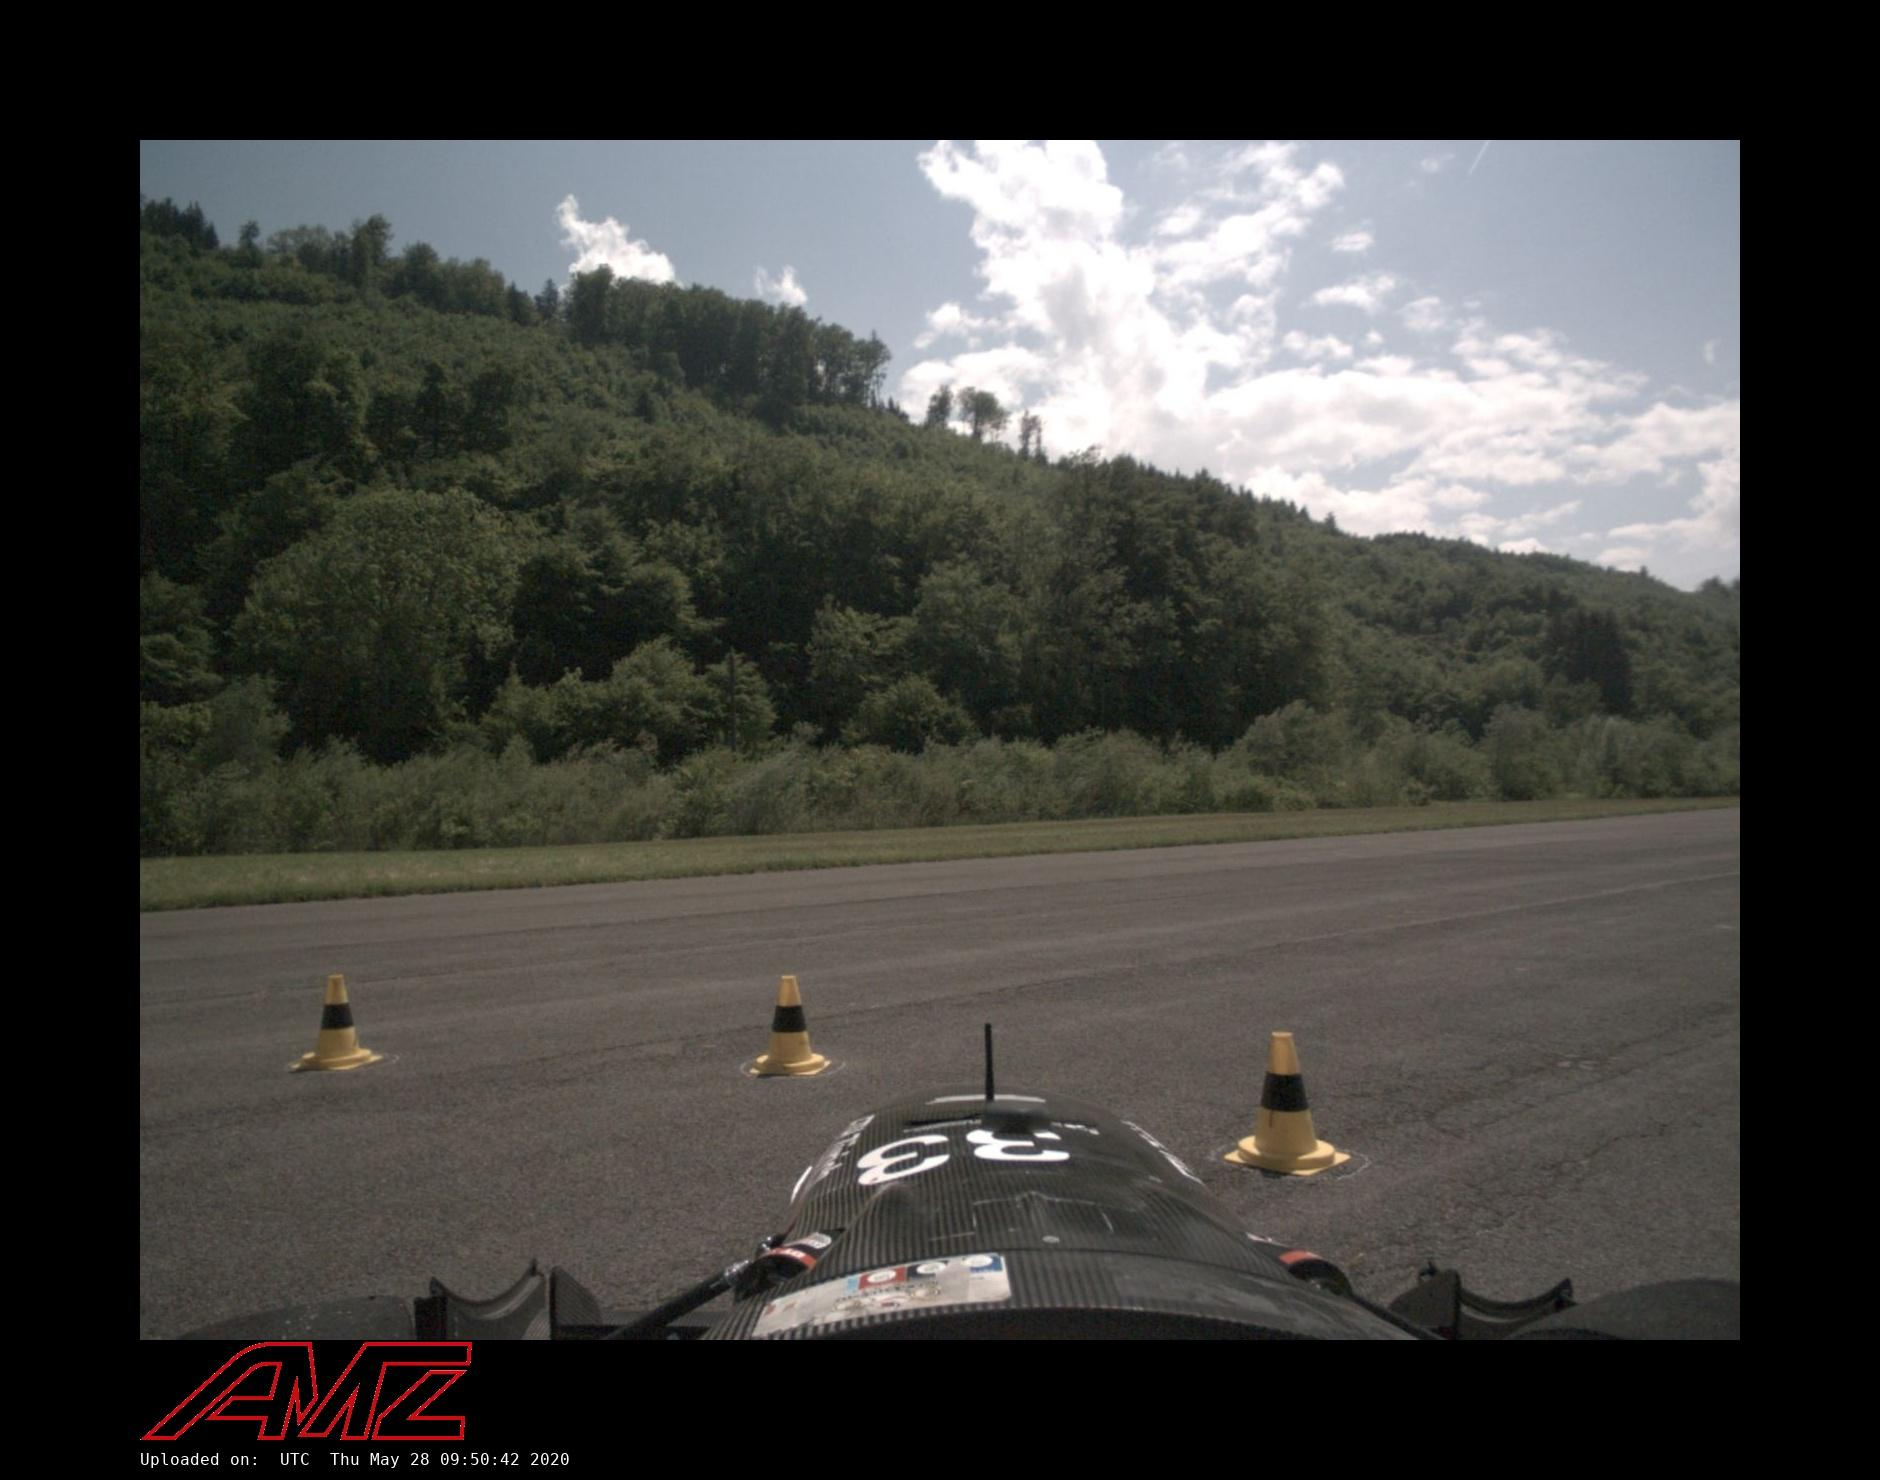yellow_cone: (1225, 1031, 1350, 1176), (288, 975, 381, 1074), (749, 976, 832, 1076)
